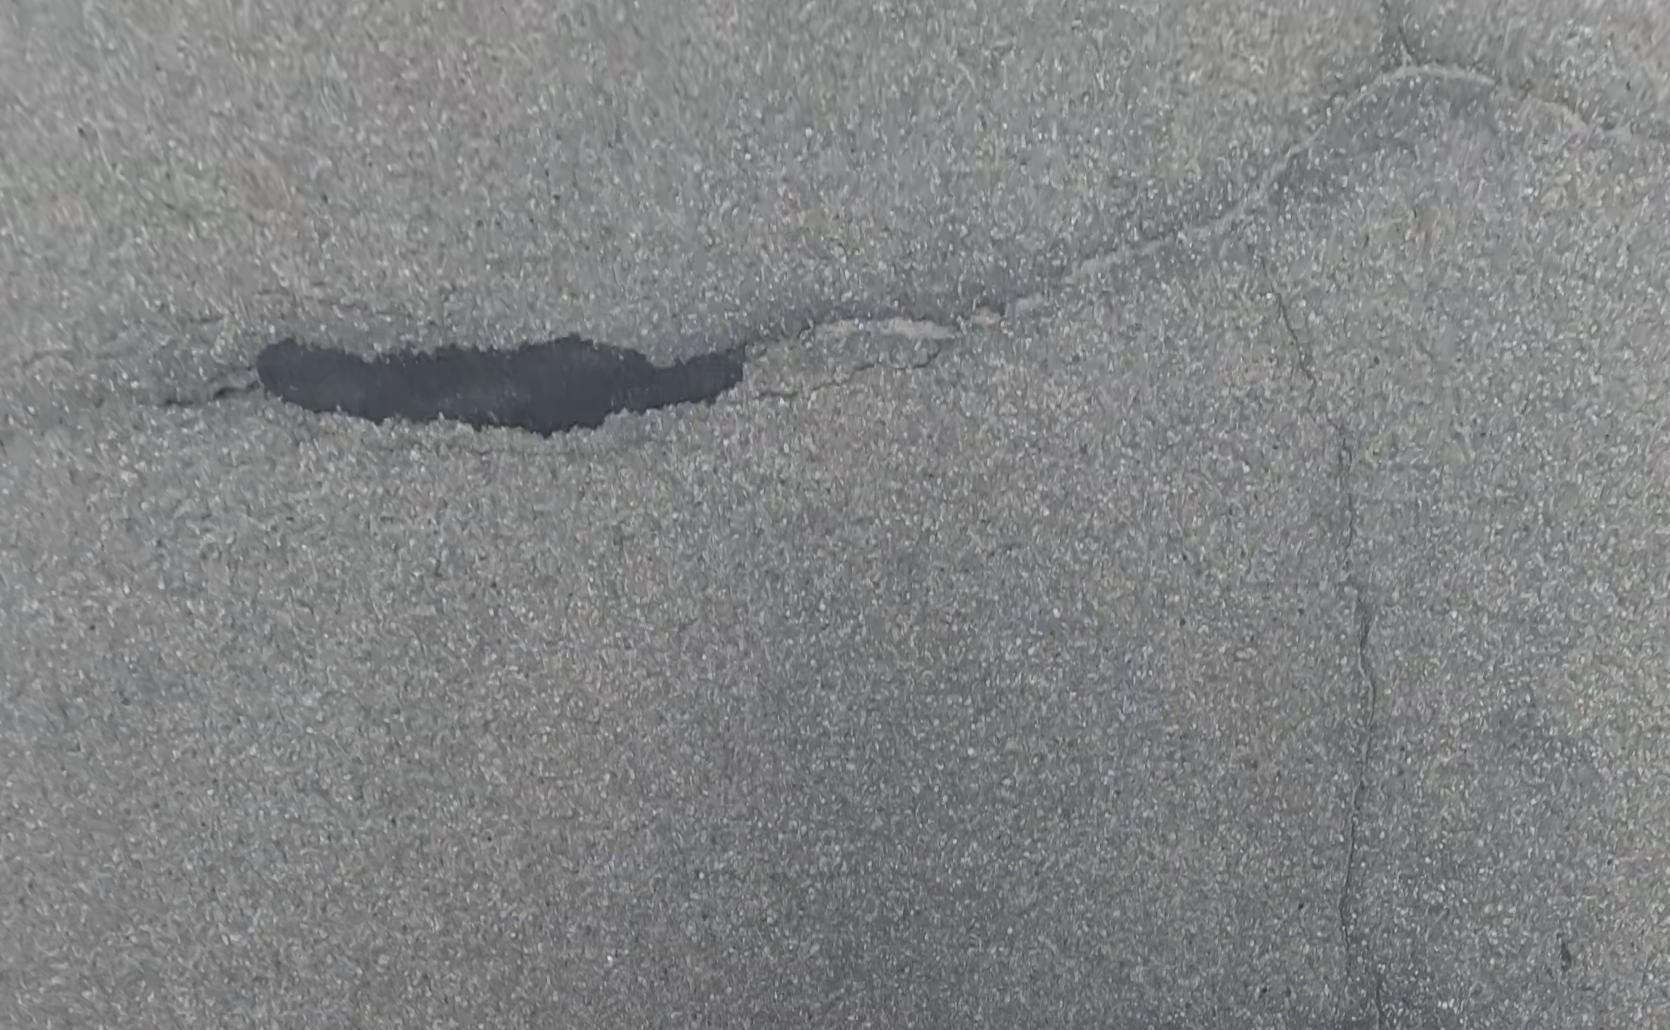pothole_patch_good: (255, 335, 746, 434)
